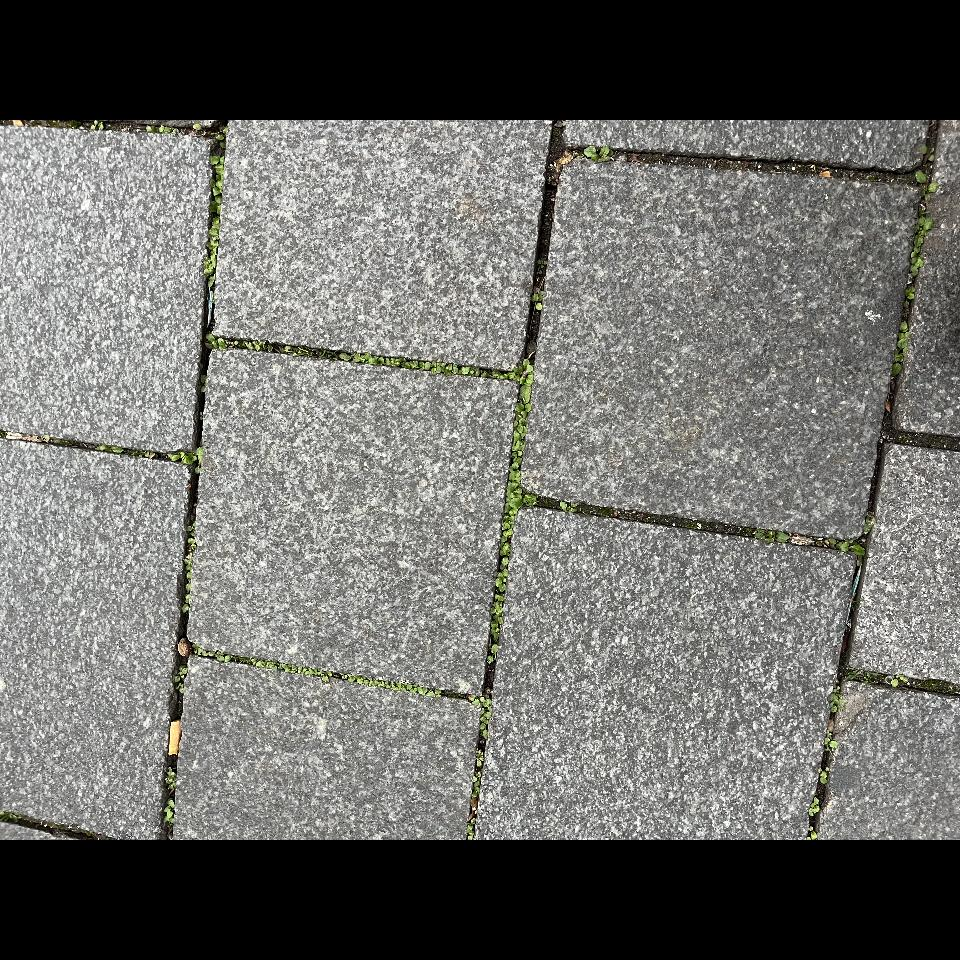weed: (401, 120, 495, 793), (42, 120, 154, 300), (440, 580, 756, 627), (94, 404, 387, 454), (504, 263, 767, 315), (762, 120, 802, 325), (0, 509, 82, 587), (744, 514, 768, 693), (20, 742, 59, 840), (738, 695, 755, 773), (0, 259, 34, 279), (735, 779, 749, 822), (45, 634, 60, 667), (54, 590, 67, 611), (34, 713, 46, 734), (44, 669, 55, 683)
